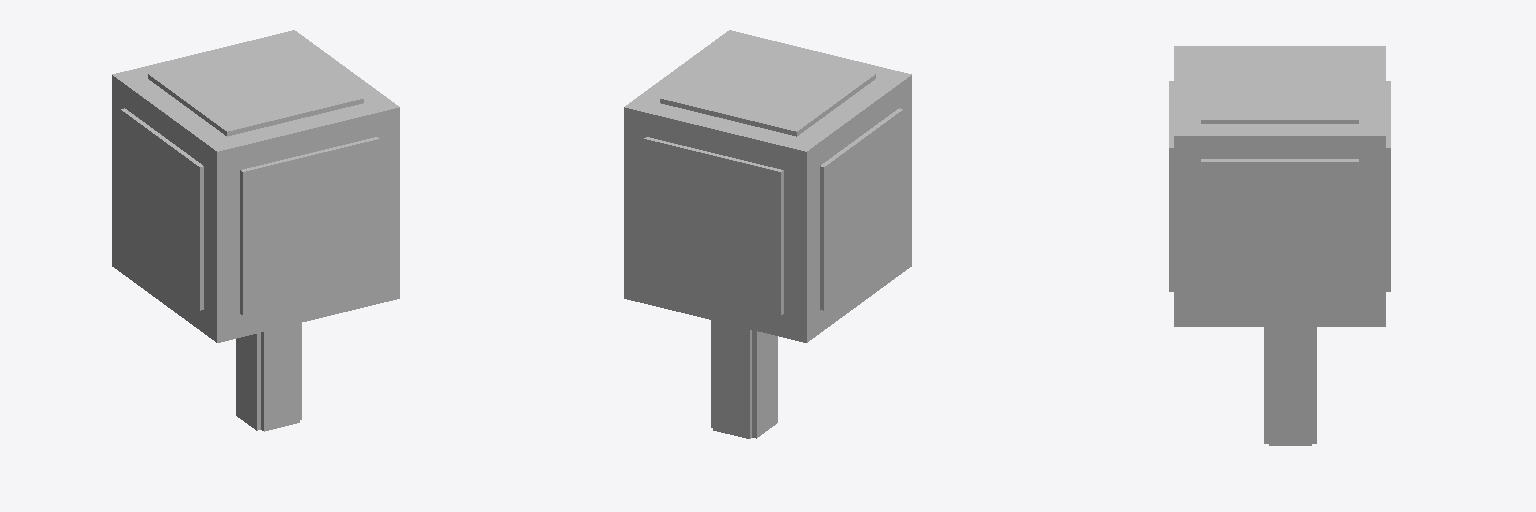
The model's file is Tree-2.obj.
3 views of the same model, side by side, from view 1: azimuth 30°, elevation 25°; view 2: azimuth 150°, elevation 25°; view 3: azimuth 270°, elevation 25° (orthographic).
Parts seen in each view (by area): view 1: object 1; view 2: object 1; view 3: object 1.
Part boxes in pixels (left/top/right/bottom): object 1: left=112, top=30, right=399, bottom=431; object 1: left=624, top=30, right=911, bottom=438; object 1: left=1169, top=46, right=1390, bottom=445.
Size of the model in its own units: 4.2 by 7.1 by 4.2.